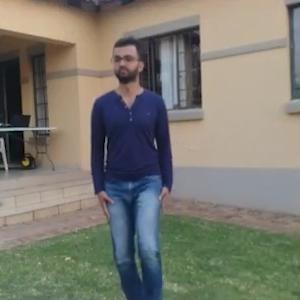follow: (92, 35, 170, 260)
